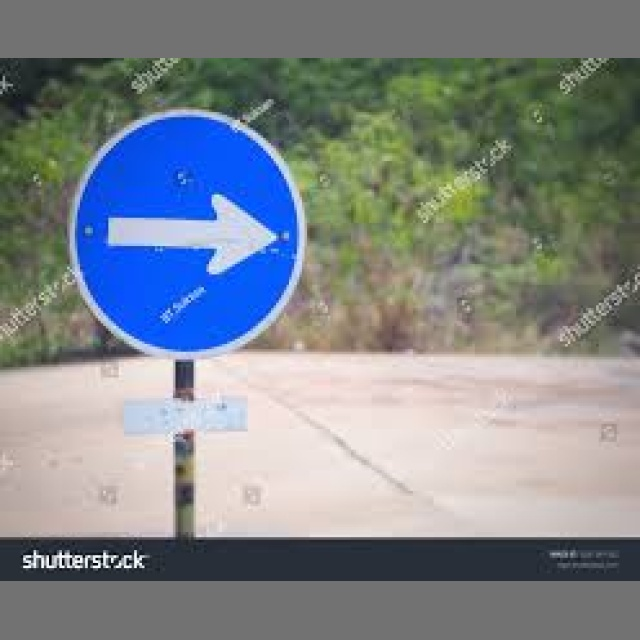Compulsory_Turn_Right: (79, 107, 307, 360)
